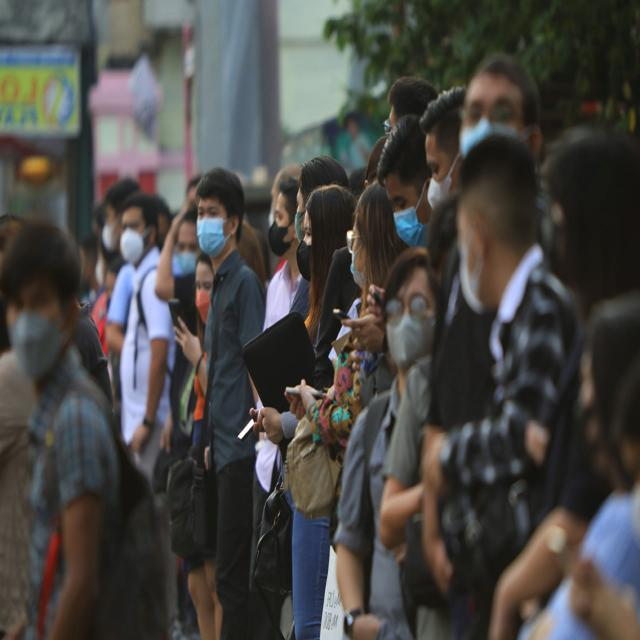adult: (426, 135, 571, 640), (2, 222, 124, 640), (254, 182, 354, 640), (334, 249, 447, 640), (196, 169, 260, 640), (116, 197, 176, 483)
